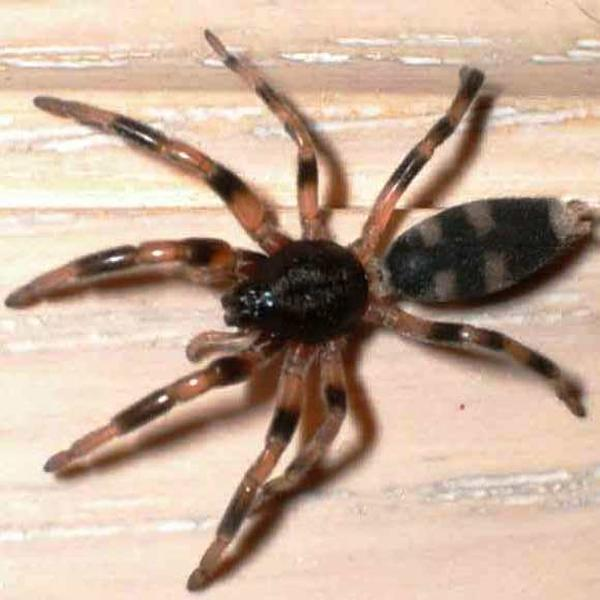White-Tailed Spider: (33, 36, 589, 564)
